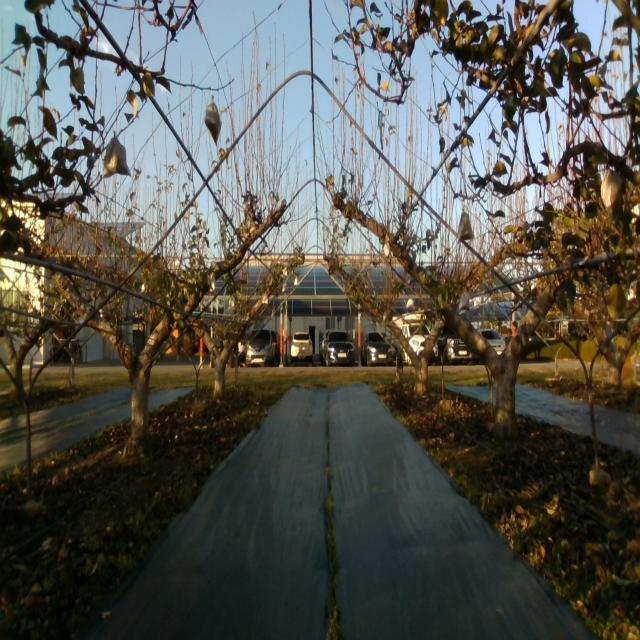pearbags: (600, 168, 622, 220), (104, 138, 130, 178), (205, 102, 222, 146), (457, 212, 474, 243), (458, 290, 472, 314)
